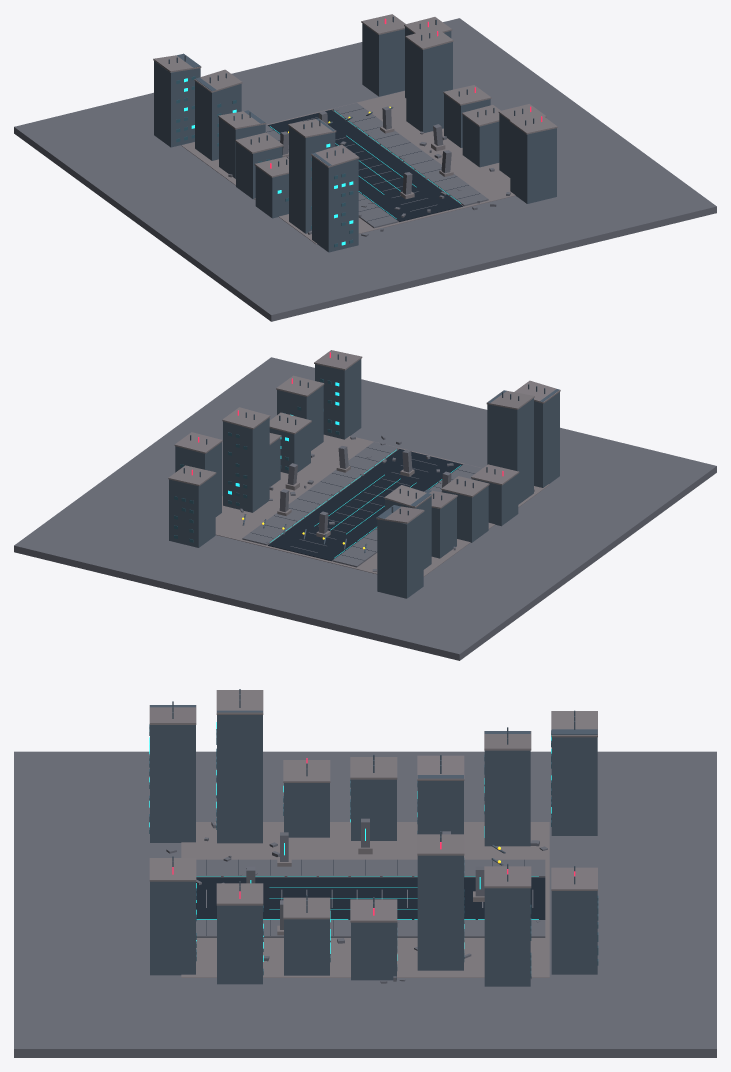
Rendered from ruined_city_arena.glb.
3 renders of one model, top to bottom at view 1: azimuth 30°, elevation 25°; view 2: azimuth 150°, elevation 25°; view 3: azimuth 270°, elevation 25°, orthographic. The views are drawn at different scales.
Visible parts, largest first — view 1: ruined city earth, central cracked boulevard, circular combat floor, city skyscraper damaged shell -1 0, city skyscraper damaged shell 1 4, city skyscraper damaged shell 1 0, sidewalk 1, city skyscraper damaged shell -1 6, city skyscraper damaged shell 1 6, city skyscraper damaged shell -1 1, city skyscraper damaged shell -1 5, city skyscraper damaged shell 1 2 (+16 smaller); view 2: ruined city earth, central cracked boulevard, circular combat floor, city skyscraper damaged shell 1 4, city skyscraper damaged shell -1 6, city skyscraper damaged shell -1 1, sidewalk 1, city skyscraper damaged shell 1 6, city skyscraper damaged shell 1 0, city skyscraper damaged shell -1 0, city skyscraper damaged shell 1 1, city skyscraper damaged shell -1 3 (+18 smaller); view 3: ruined city earth, circular combat floor, central cracked boulevard, city skyscraper damaged shell -1 1, city skyscraper damaged shell -1 0, city skyscraper damaged shell 1 4, sidewalk -1, city skyscraper damaged shell -1 6, city skyscraper damaged shell -1 5, city skyscraper damaged shell 1 5, city skyscraper damaged shell 1 0, city skyscraper damaged shell 1 6 (+21 smaller).
Part boxes in pixels (x1,y1,x2,y2): ruined city earth: (14,18,716,321); central cracked boulevard: (268,109,463,221); circular combat floor: (181,91,515,244); city skyscraper damaged shell -1 0: (312,153,358,252); city skyscraper damaged shell 1 4: (406,38,452,132); city skyscraper damaged shell 1 0: (510,123,556,203); sidewalk 1: (332,103,488,206); city skyscraper damaged shell -1 6: (154,53,200,147); city skyscraper damaged shell 1 6: (362,23,404,96); city skyscraper damaged shell -1 1: (289,118,335,233); city skyscraper damaged shell -1 5: (195,77,241,160); city skyscraper damaged shell 1 2: (462,115,499,167); ruined city earth: (14,357,716,660); central cracked boulevard: (268,449,462,561); circular combat floor: (215,434,549,576); city skyscraper damaged shell 1 4: (223,418,269,512); city skyscraper damaged shell -1 6: (377,505,423,598); city skyscraper damaged shell -1 1: (487,390,533,504); sidewalk 1: (242,442,398,545); city skyscraper damaged shell 1 6: (169,474,215,547); city skyscraper damaged shell 1 0: (315,359,361,439); city skyscraper damaged shell -1 0: (534,389,559,487); city skyscraper damaged shell 1 1: (277,385,323,450); city skyscraper damaged shell -1 3: (442,486,488,542); ruined city earth: (14,751,716,1057); circular combat floor: (181,822,549,977); central cracked boulevard: (196,877,545,919); city skyscraper damaged shell -1 1: (217,710,262,843); city skyscraper damaged shell -1 0: (150,705,195,842); city skyscraper damaged shell 1 4: (417,855,463,970); sidewalk -1: (196,859,545,877); city skyscraper damaged shell -1 6: (551,729,597,835); city skyscraper damaged shell -1 5: (484,731,530,846); city skyscraper damaged shell 1 5: (484,888,530,986); city skyscraper damaged shell 1 0: (150,881,195,975); city skyscraper damaged shell 1 6: (551,891,597,974).
Size of the model in its own units: 84 by 19.59 by 84.
